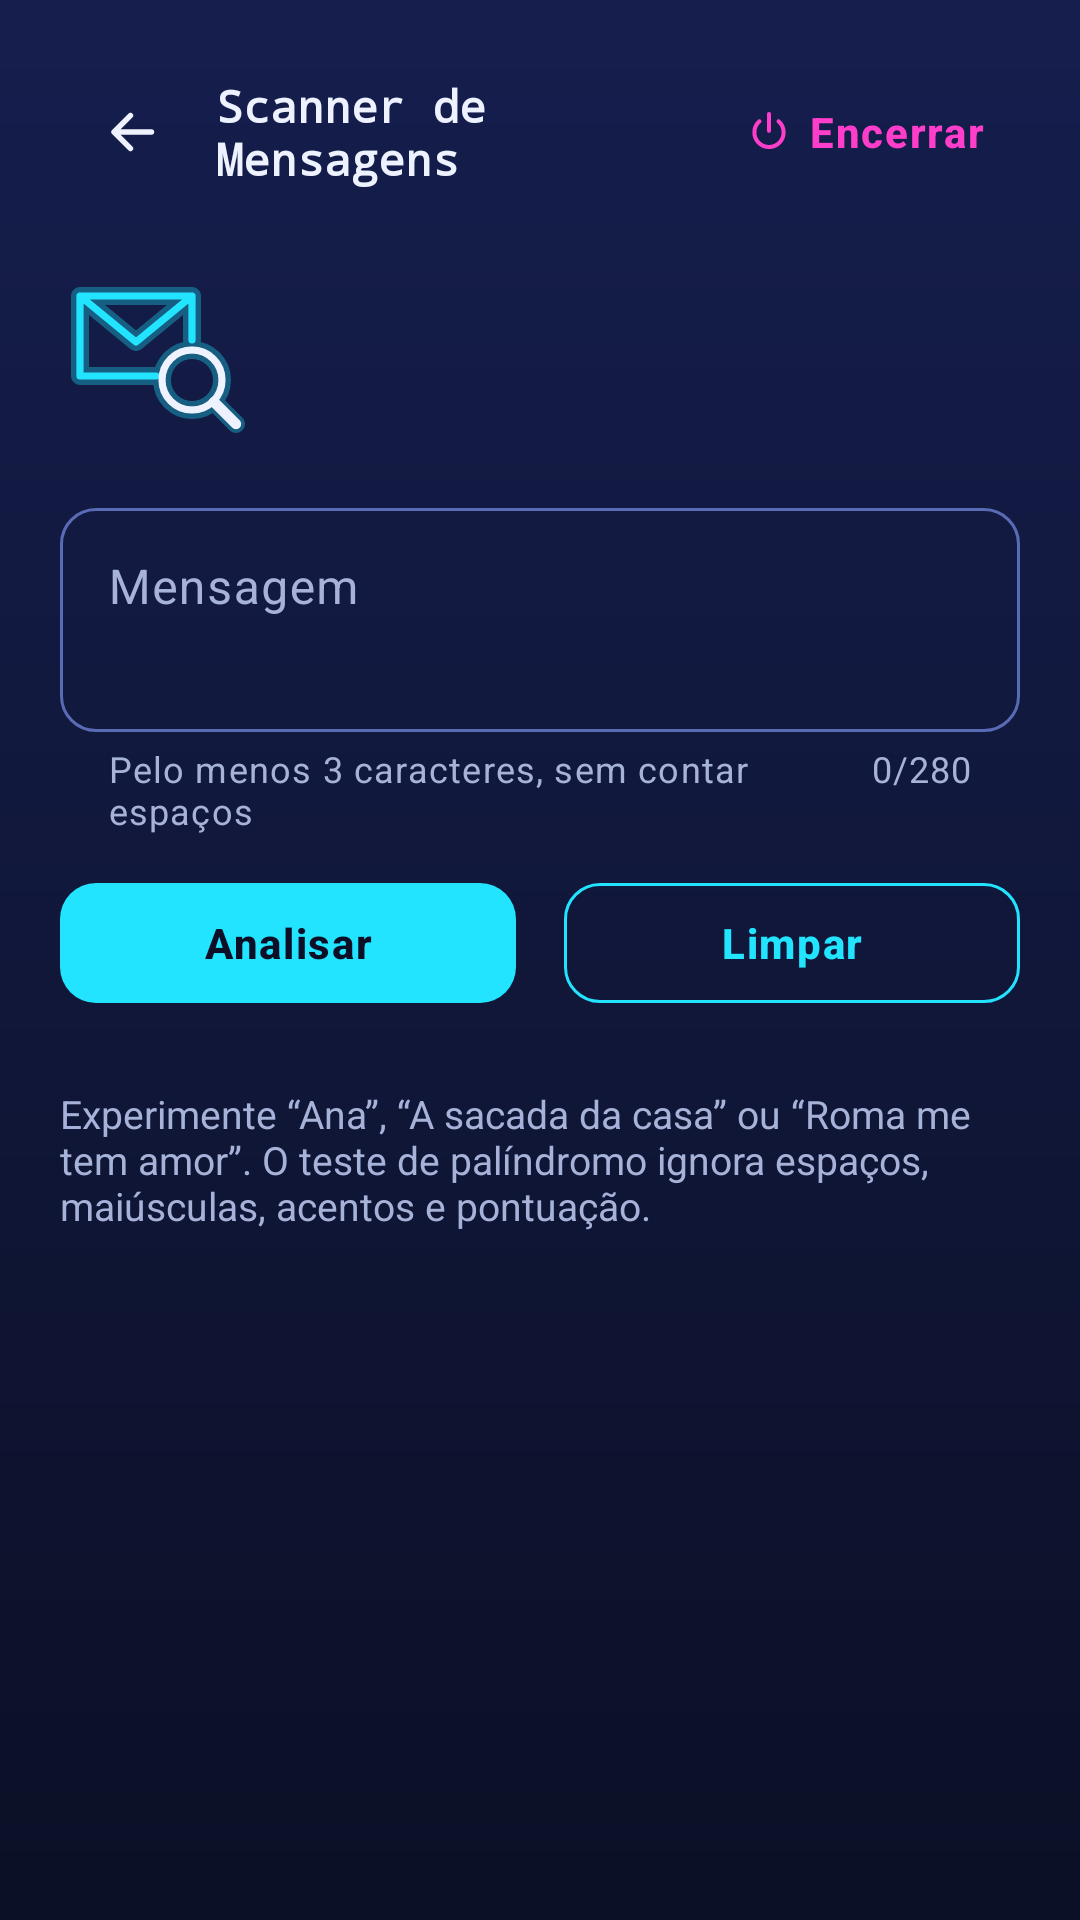

Icons on this 1080 x 1920 Android screen, each with the point to tap as (x=x, y=y):
Envelope com uma lupa: (x=158, y=360)
Voltar para a Central de Desafios: (x=133, y=132)
